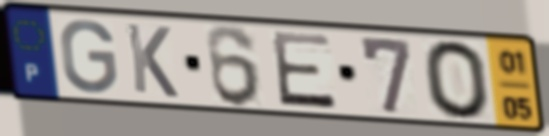6: (203, 21, 264, 110)
7: (356, 34, 414, 117)
E: (268, 29, 340, 112)
G: (58, 17, 120, 97)
K: (122, 20, 181, 101)
O: (420, 37, 494, 122)
